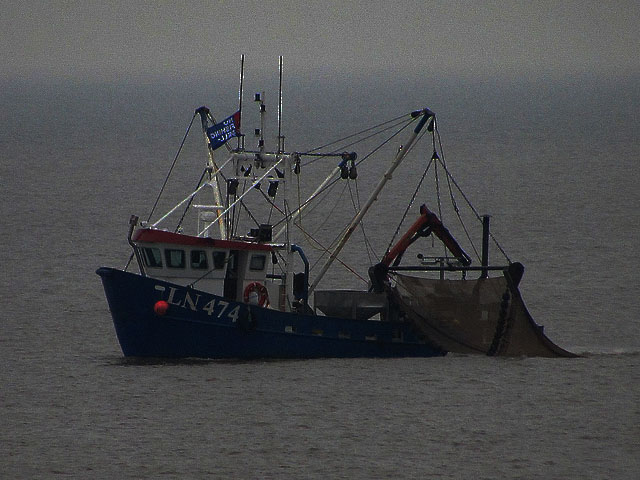fishing_boat: (97, 54, 557, 353)
